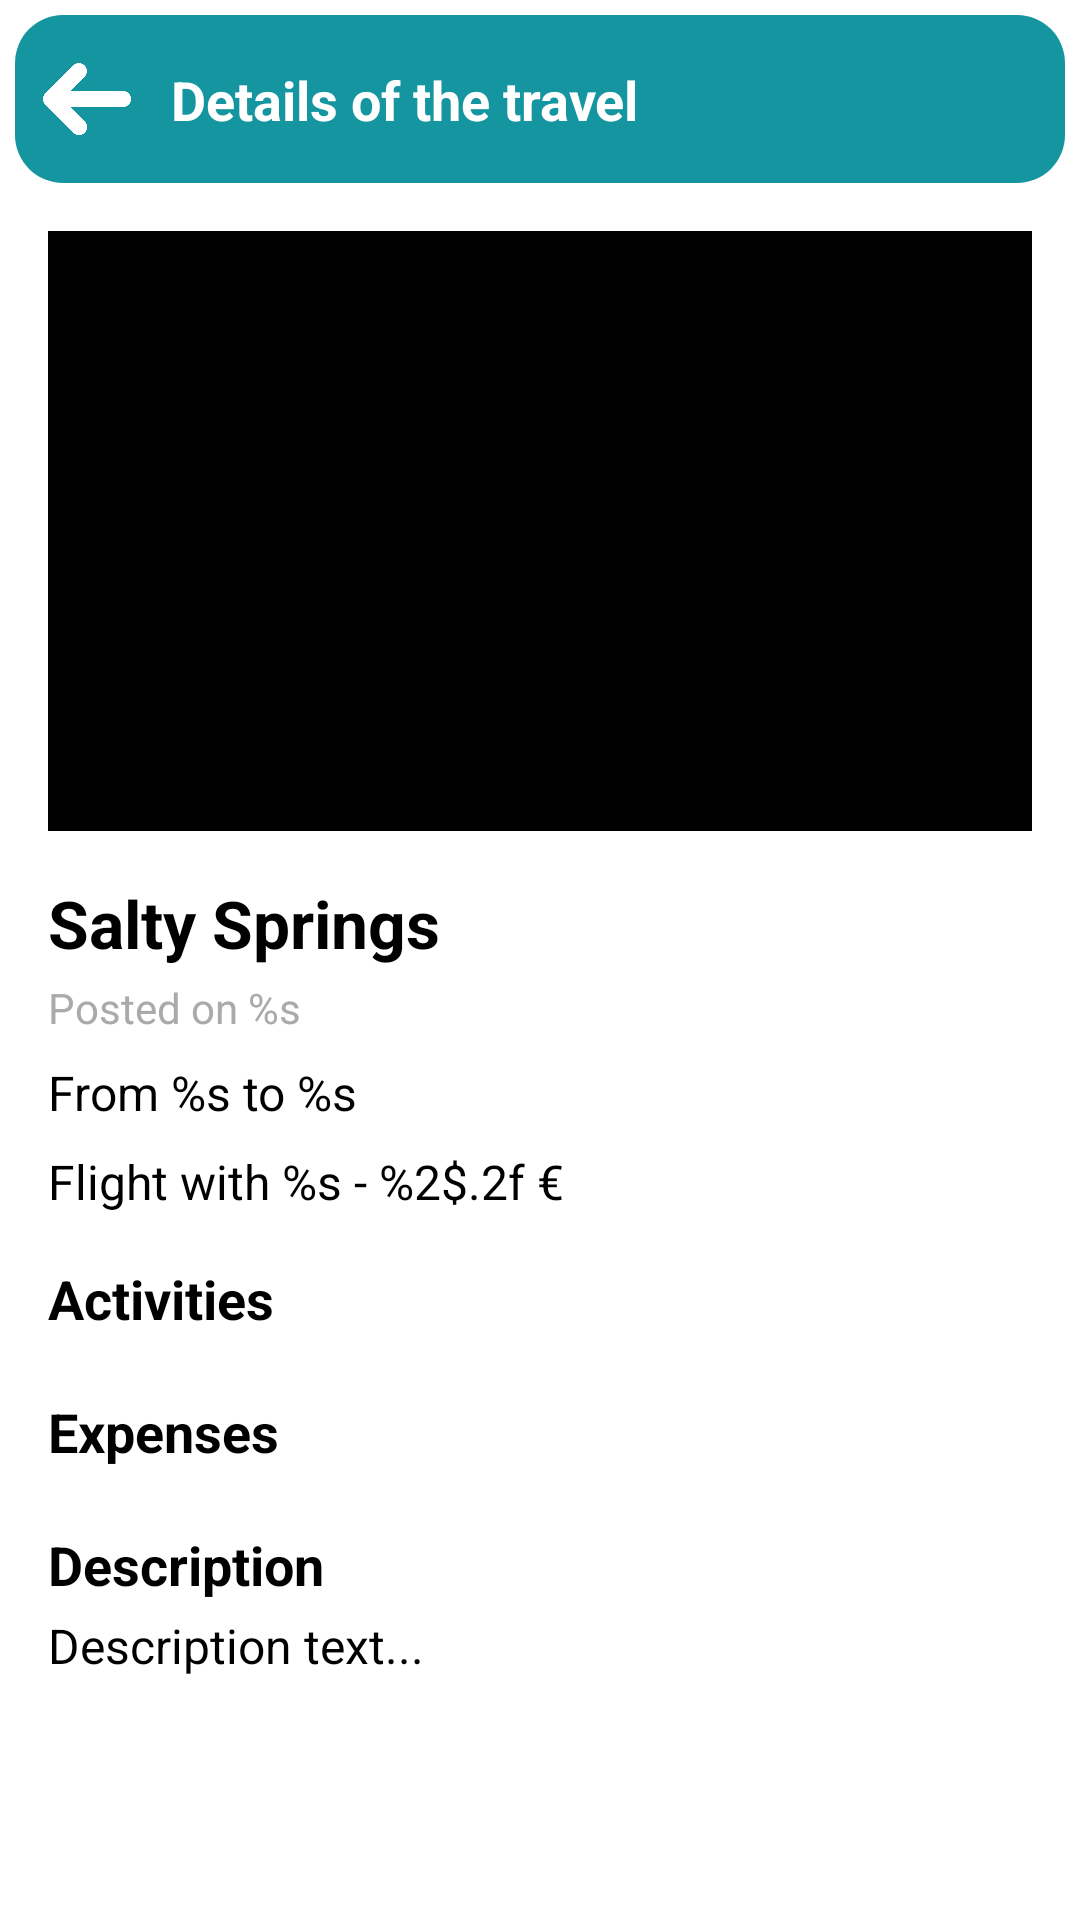

Screen size 1080x1920. Icon name, then its center in pixels as point (x, y):
Retour: point (87, 99)
